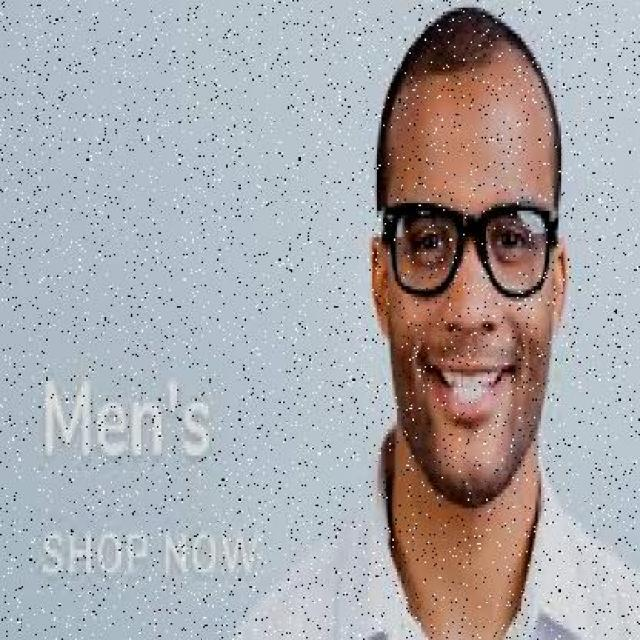glasses: (376, 184, 556, 310)
